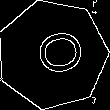O_W: (22, 27, 84, 82)
